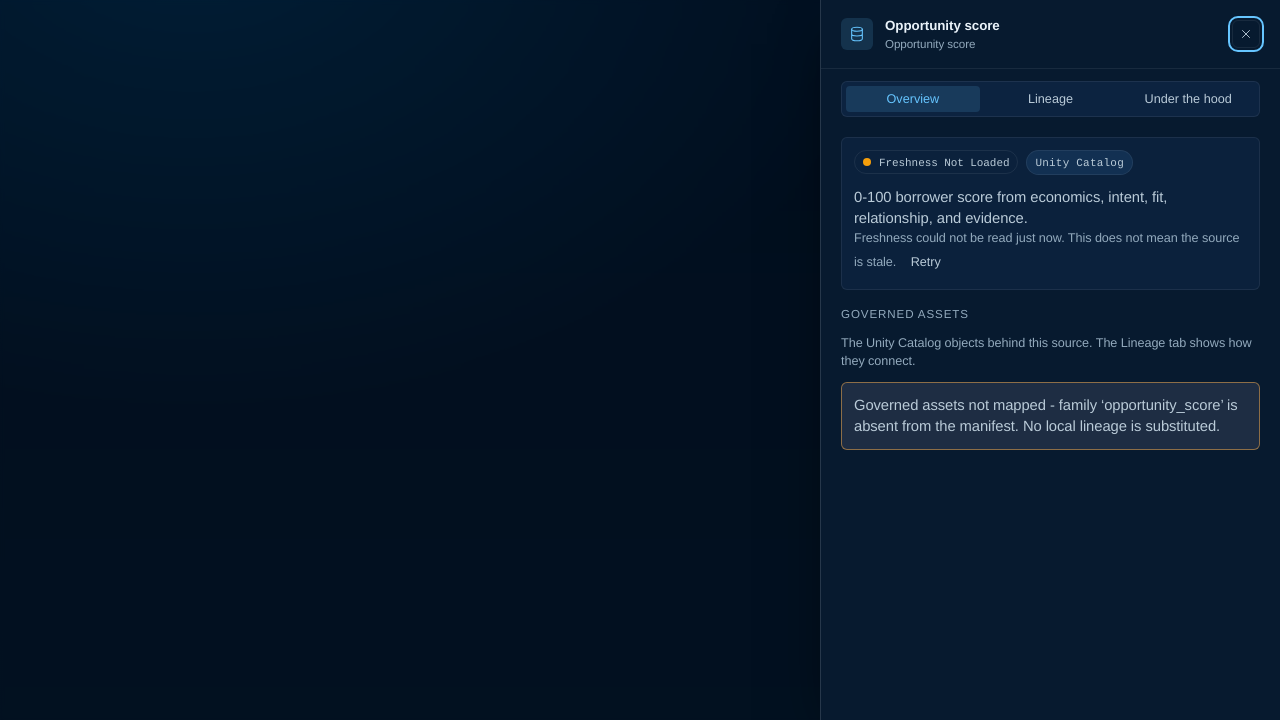
Test case: EvidenceDrawer freshness for every user › says a failed read could not be read, never "Stale", and retries only on a click
Expected: the text with class "source-freshness" reads "Freshness not loaded", [879,155,1009,169]
Expected: the text "Stale" is not shown
Click the button "Retry".
click(926, 262)  # box [900,246,952,276]
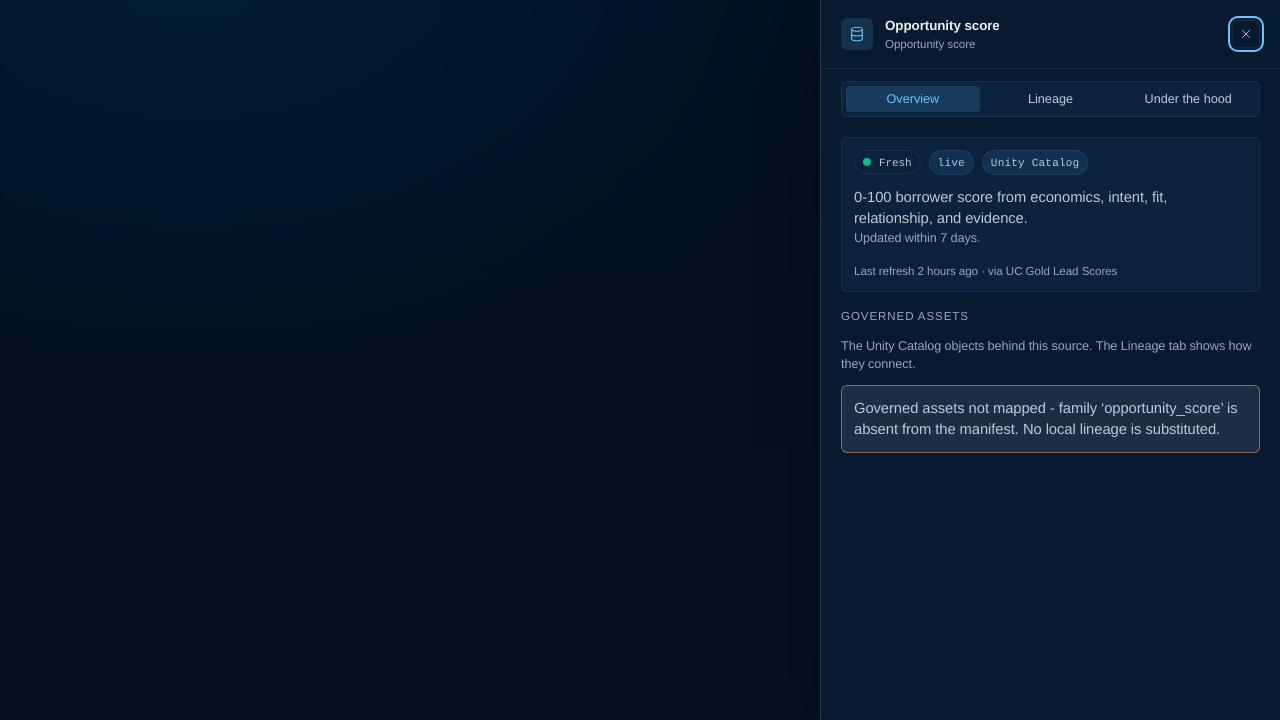
Expected: the text with class "source-freshness" reads "Fresh", [879,155,912,169]
Result: the element with test id "evidence-freshness-foot" reads "Last refresh 2 hours ago · via UC Gold Lead Scores" at [854,264,1117,278]
